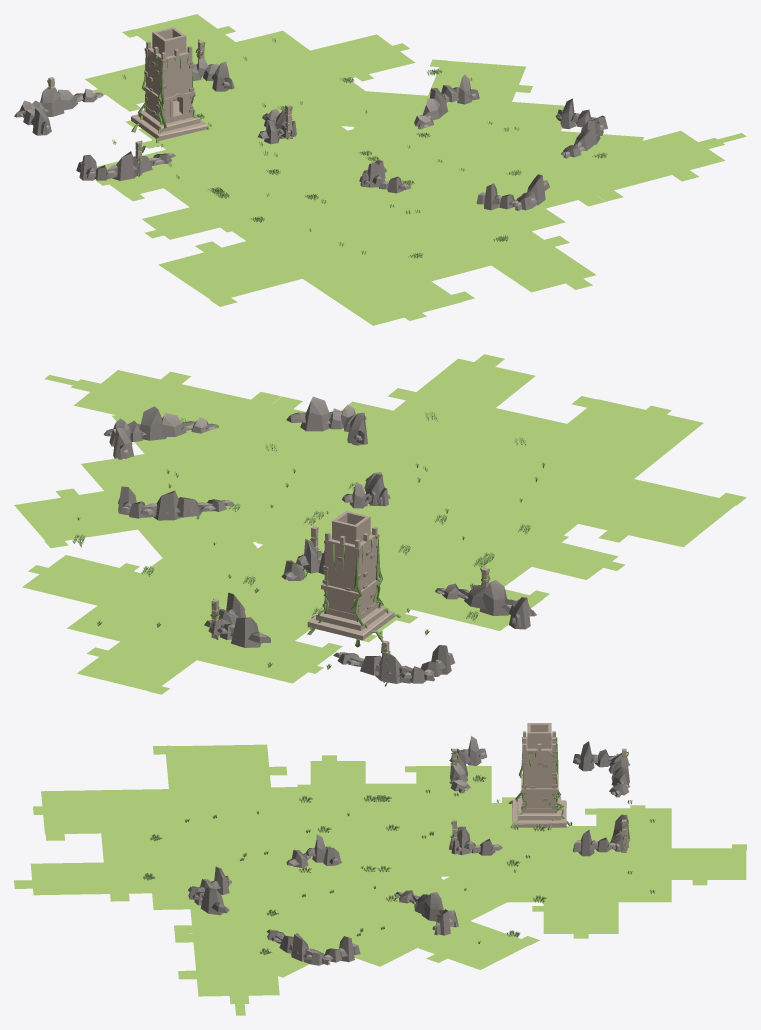
Rendered from planeGround9.glb.
3 views of the same model, one above another, from view 1: azimuth 30°, elevation 25°; view 2: azimuth 150°, elevation 25°; view 3: azimuth 270°, elevation 25° (orthographic). The views are drawn at different scales.
Visible parts, largest first — view 1: Object_7.003, Object_7.004, Object_7.002, Object_7.001, Object_3, Object_9, Object_9.001, Object_11; view 2: Object_7.003, Object_7.004, Object_7.002, Object_7.001, Object_9.001, Object_9, Object_3, Object_11, Object_4; view 3: Object_7.003, Object_7.004, Object_7.002, Object_7.001, Object_9.001, Object_9, Object_3, Object_11, Object_4.
Part boxes in pixels (box(x1,y1,x2,y2)): Object_7.003: box(158, 131, 746, 325); Object_7.004: box(261, 59, 650, 286); Object_7.002: box(85, 14, 415, 149); Object_7.001: box(95, 103, 412, 289); Object_3: box(48, 27, 291, 175); Object_9: box(14, 59, 296, 180); Object_9.001: box(359, 74, 607, 210); Object_11: box(47, 39, 292, 176); Object_7.003: box(45, 354, 746, 582); Object_7.004: box(14, 401, 602, 577); Object_7.002: box(22, 541, 417, 694); Object_7.001: box(258, 533, 625, 642); Object_9.001: box(104, 396, 390, 520); Object_9: box(204, 539, 536, 683); Object_3: box(211, 510, 488, 656); Object_11: box(210, 525, 490, 686); Object_4: box(242, 523, 530, 669); Object_7.003: box(14, 744, 452, 1015); Object_7.004: box(106, 815, 539, 977); Object_7.002: box(439, 797, 746, 938); Object_7.001: box(297, 755, 566, 877); Object_9.001: box(188, 834, 458, 965); Object_9: box(449, 736, 630, 856); Object_3: box(452, 723, 626, 852); Object_11: box(450, 738, 628, 853); Object_4: box(298, 775, 655, 866).
Bounding box in the file's own units: 46.64 × 8.67 × 53.27.
